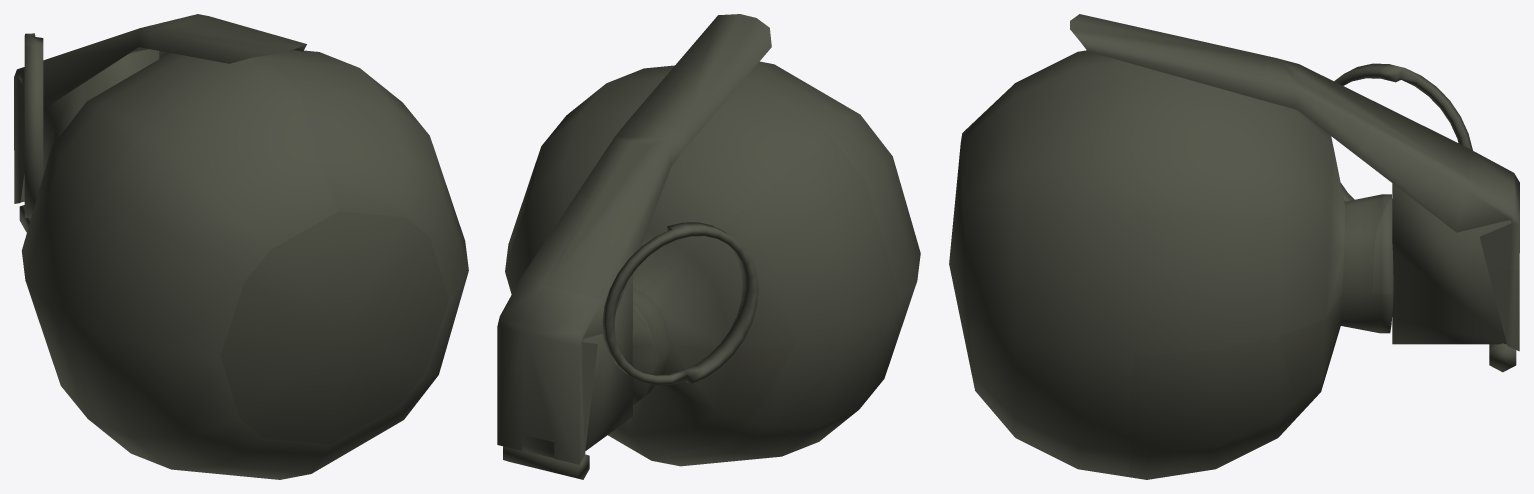
File: weapon_m67_grenade.glb
3 views of the same model, side by side, from view 1: azimuth 30°, elevation 25°; view 2: azimuth 150°, elevation 25°; view 3: azimuth 270°, elevation 25° (orthographic). The views are drawn at different scales.
Parts seen in each view (by area): view 1: weapon_m67_grenade; view 2: weapon_m67_grenade; view 3: weapon_m67_grenade.
Boxes of the visible parts, x1,y1,x2,y2 form: weapon_m67_grenade: [14, 14, 468, 479]; weapon_m67_grenade: [497, 14, 920, 479]; weapon_m67_grenade: [949, 14, 1519, 479].
Size of the model in its own units: 0.0751 by 0.0812 by 0.0959.
1 material, 1 textured.
